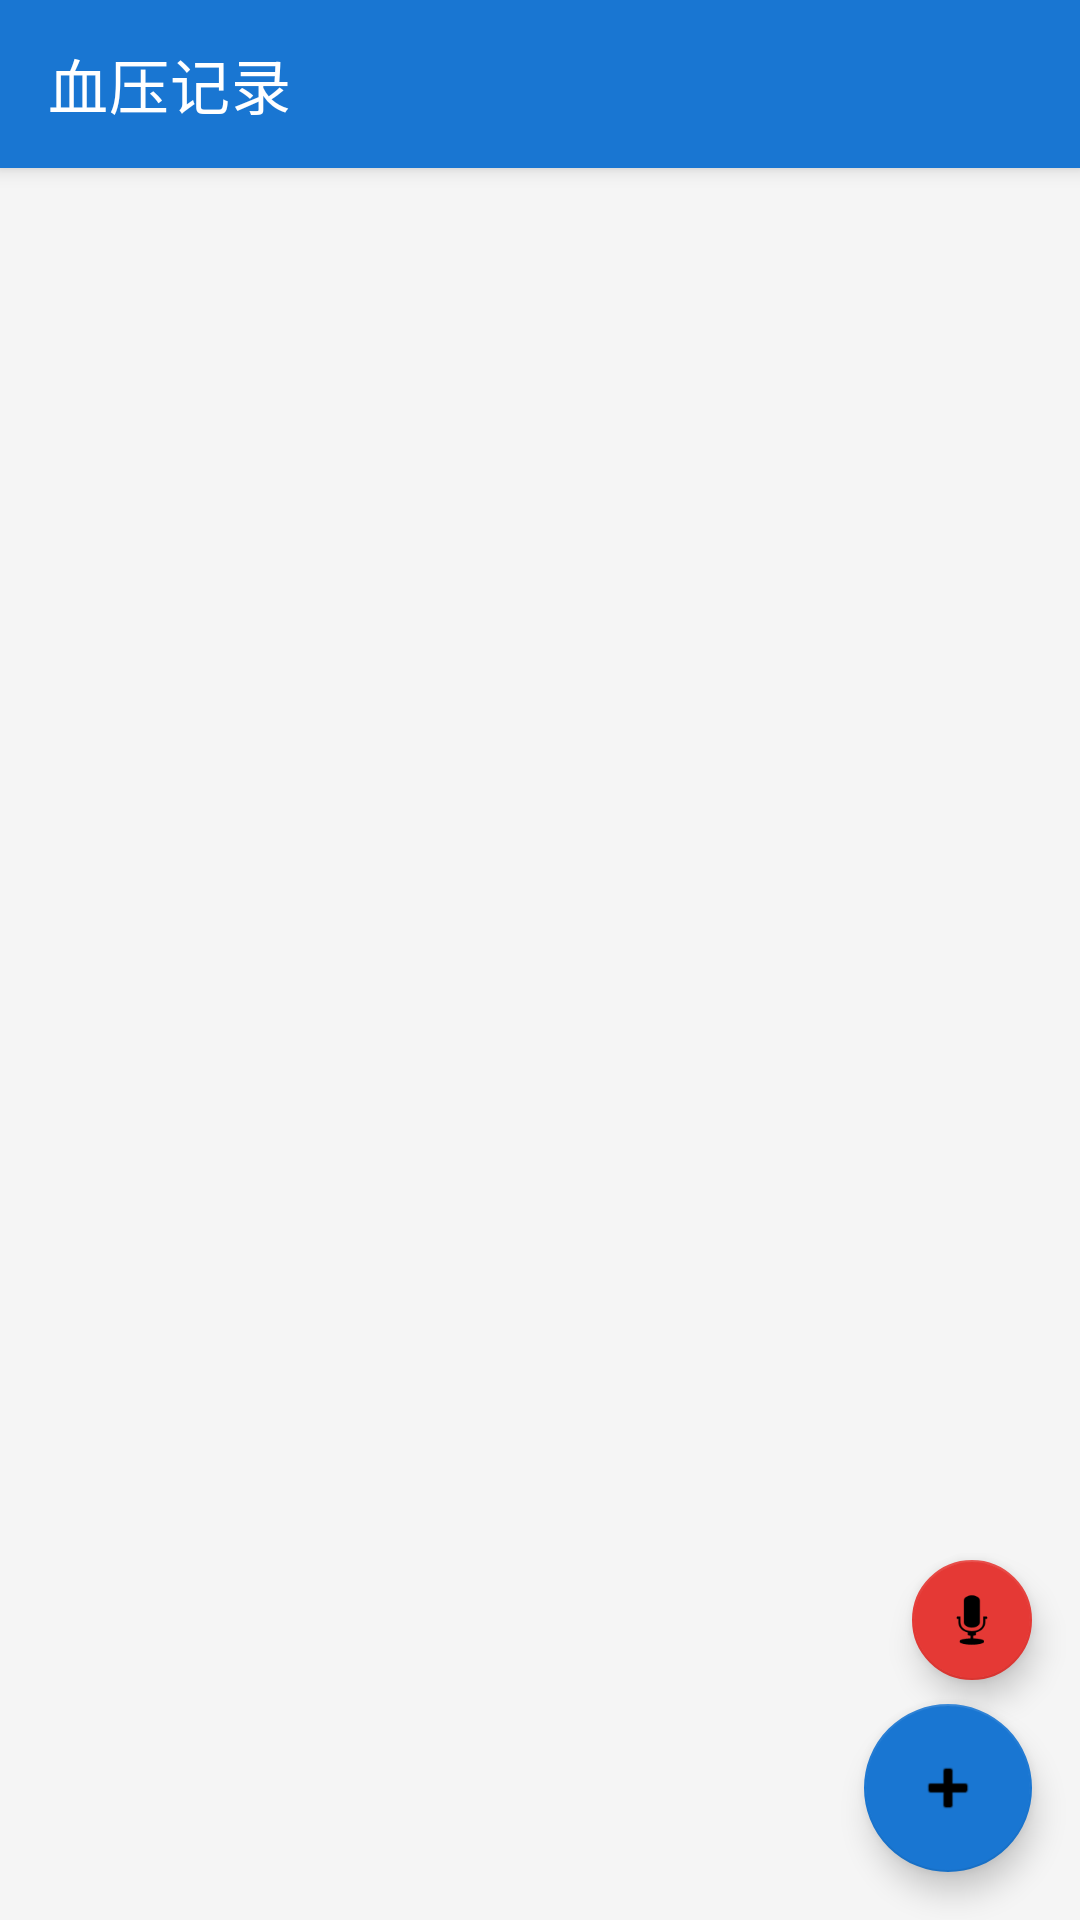

Named icons in this screenshot (1080 x 1920) and their bounding boxes, (x1, y1, x2, y2):
添加记录: (864, 1704, 1032, 1872)
语音输入: (912, 1560, 1034, 1692)
